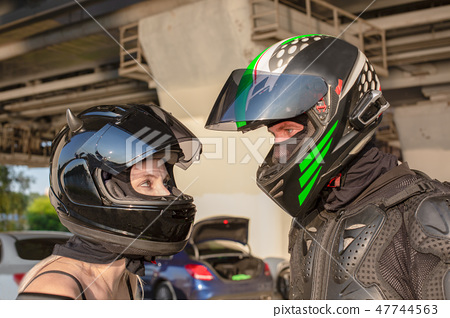helmet: (235, 35, 379, 183), (51, 103, 197, 239)
